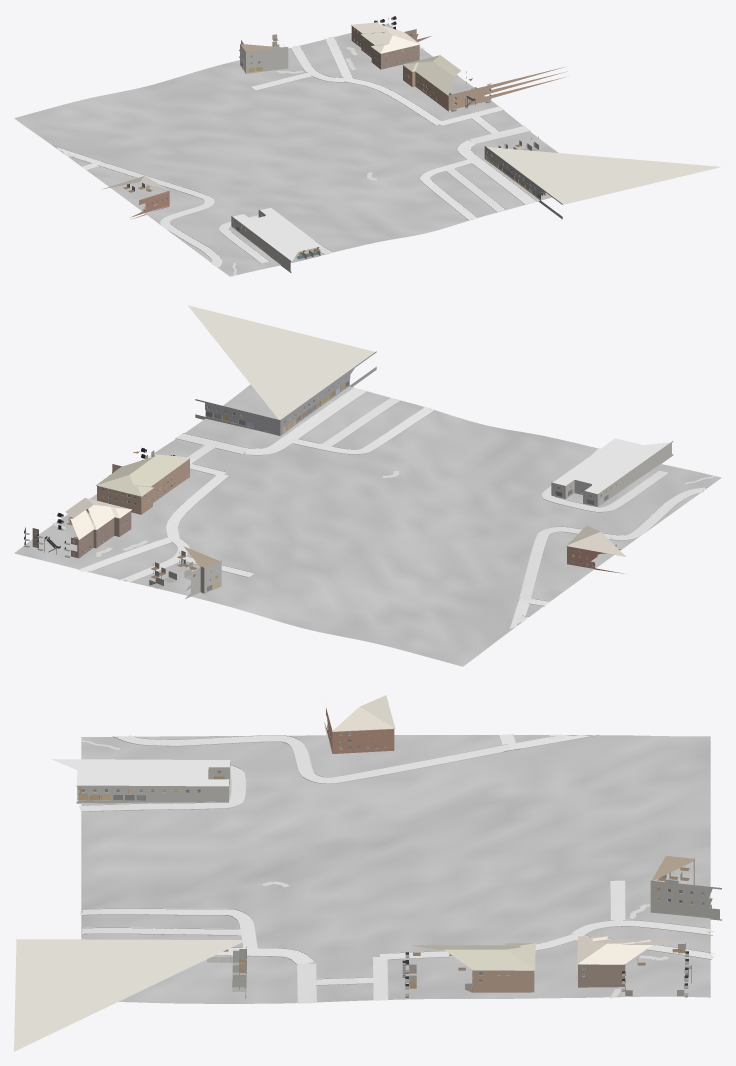
The picture shows the model from 3 angles, top to bottom: view 1: azimuth 30°, elevation 25°; view 2: azimuth 150°, elevation 25°; view 3: azimuth 270°, elevation 25°; orthographic projection. The views are drawn at different scales.
Parts seen in each view (by area): view 1: ground, roof_flat, concrete, wall, roof, wall_com, curb, asphalt, room, detail; view 2: ground, roof_flat, concrete, wall_com, roof, wall, curb, asphalt, detail, room, glass, glass_lit; view 3: ground, roof_flat, concrete, roof, wall_com, wall, curb, room, asphalt, detail.
Boxes of the visible parts, left/top/right/bottom form: ground: left=14, top=24, right=558, bottom=276; roof_flat: left=233, top=44, right=720, bottom=261; concrete: left=57, top=36, right=504, bottom=267; wall: left=130, top=26, right=567, bottom=219; roof: left=102, top=22, right=461, bottom=190; wall_com: left=231, top=40, right=562, bottom=272; curb: left=52, top=37, right=536, bottom=268; asphalt: left=457, top=126, right=535, bottom=204; room: left=123, top=34, right=545, bottom=260; detail: left=124, top=16, right=546, bottom=254; ground: left=14, top=384, right=721, bottom=666; roof_flat: left=183, top=305, right=670, bottom=567; concrete: left=78, top=398, right=706, bottom=628; wall_com: left=185, top=351, right=673, bottom=598; roof: left=65, top=454, right=625, bottom=556; wall: left=24, top=459, right=623, bottom=573; curb: left=78, top=387, right=708, bottom=631; asphalt: left=175, top=387, right=366, bottom=454; detail: left=24, top=382, right=620, bottom=591; room: left=24, top=386, right=621, bottom=588; glass: left=34, top=380, right=607, bottom=591; glass_lit: left=73, top=379, right=616, bottom=588; ground: left=81, top=735, right=710, bottom=1003; roof_flat: left=14, top=759, right=693, bottom=1051; concrete: left=79, top=734, right=714, bottom=1000; roof: left=332, top=695, right=685, bottom=970; wall_com: left=76, top=762, right=721, bottom=996; wall: left=324, top=708, right=685, bottom=992; curb: left=81, top=734, right=712, bottom=1002; room: left=77, top=734, right=711, bottom=996; asphalt: left=216, top=948, right=316, bottom=1003; detail: left=82, top=717, right=705, bottom=1000.
Size of the model in its own units: 330 by 19.26 by 281.
